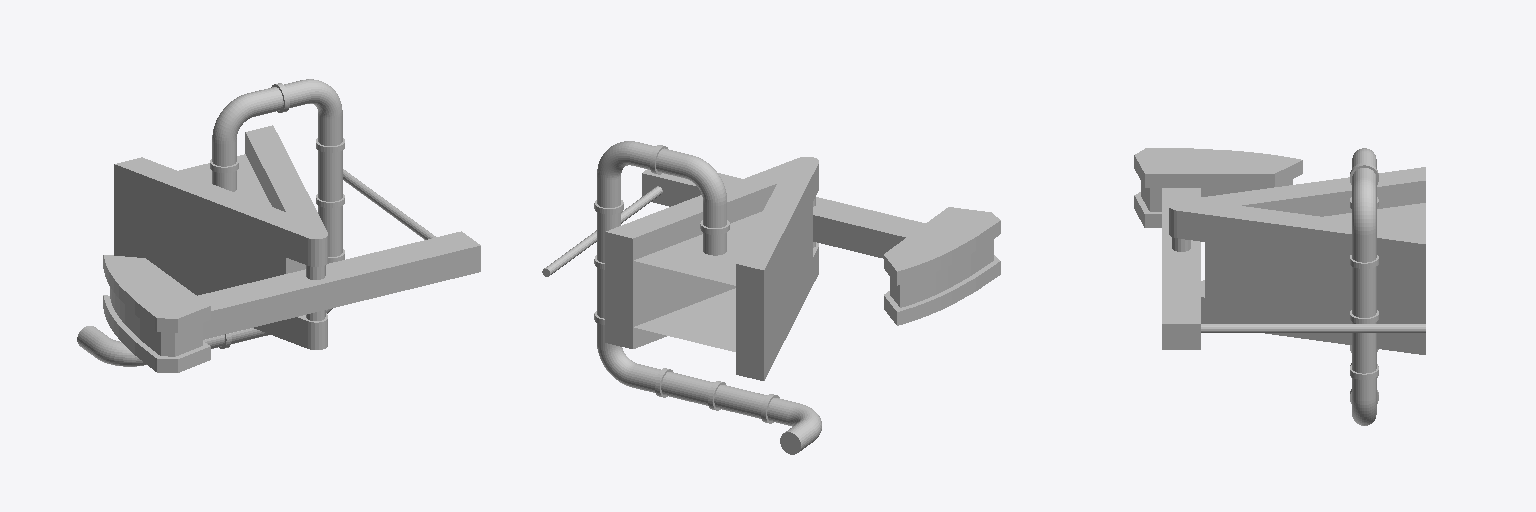
File: Pumpjack.obj
3 views of the same model, side by side, from view 1: azimuth 30°, elevation 25°; view 2: azimuth 150°, elevation 25°; view 3: azimuth 270°, elevation 25° (orthographic).
Bounding box in the file's own units: 1.57 × 1.12 × 1.19.